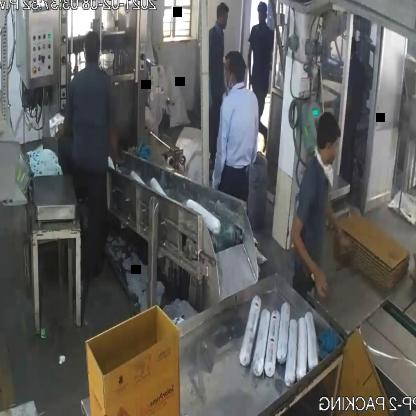no_glove: (288, 212, 330, 296), (321, 201, 356, 261)
